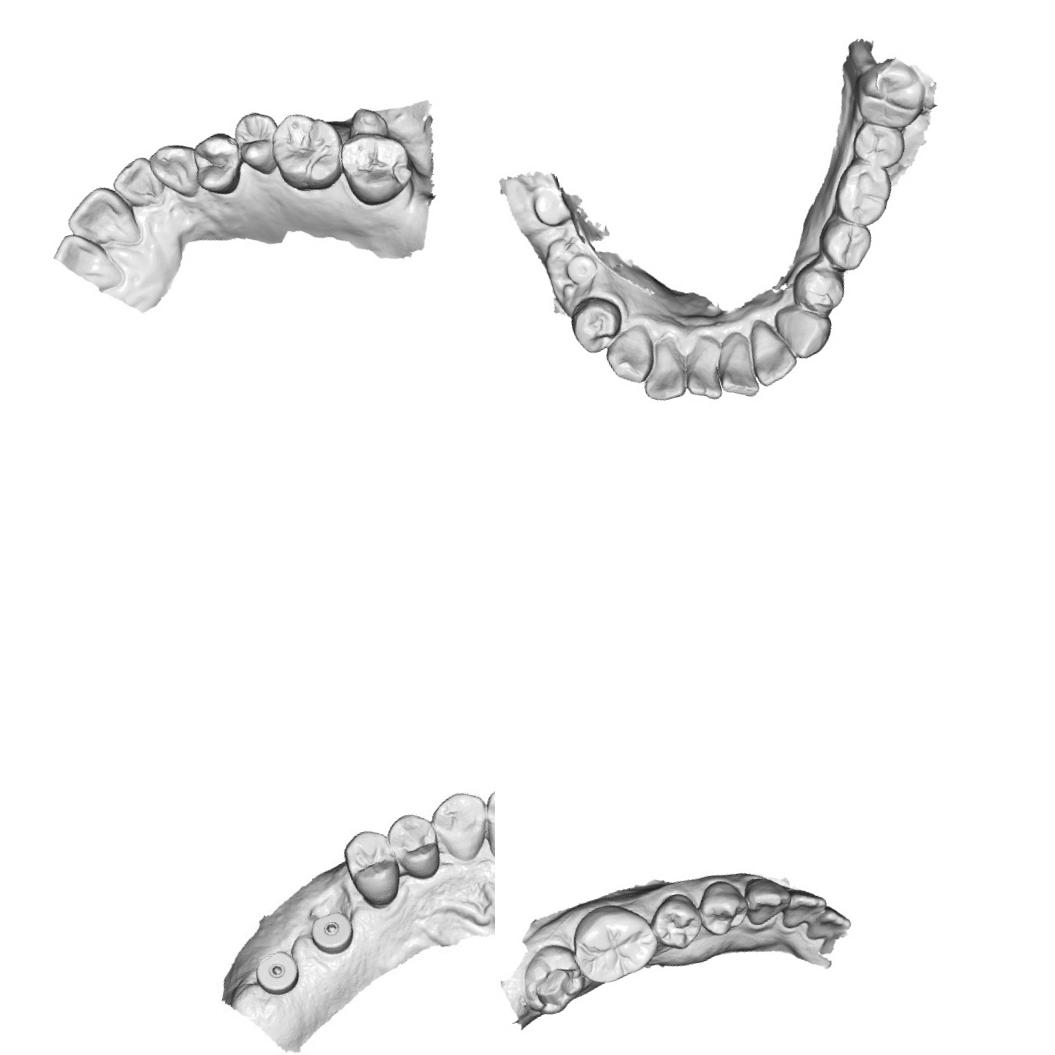canine: (424, 786, 495, 867), (769, 294, 838, 366), (598, 320, 662, 390), (144, 136, 206, 206), (737, 870, 796, 928)
implant: (254, 944, 304, 1002), (310, 908, 358, 958), (560, 248, 602, 288)
incisor: (58, 178, 144, 262), (705, 325, 768, 406), (630, 330, 696, 406), (672, 328, 734, 407), (741, 310, 802, 390), (106, 151, 170, 214), (773, 879, 831, 931), (799, 900, 854, 944), (477, 780, 495, 861)
molar: (561, 892, 664, 990), (262, 100, 354, 200), (333, 120, 420, 213), (844, 52, 932, 140), (512, 938, 592, 1022), (824, 152, 900, 235), (842, 108, 913, 178)
premolar: (339, 819, 410, 910), (382, 806, 446, 887), (810, 206, 880, 278), (781, 254, 853, 324), (184, 126, 250, 201), (228, 105, 289, 181), (562, 290, 629, 358), (643, 888, 708, 956), (690, 873, 754, 940)
